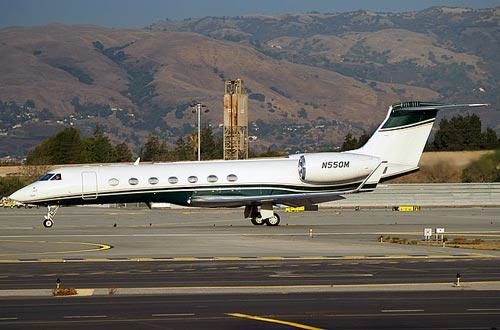airplane: (6, 96, 495, 237)
